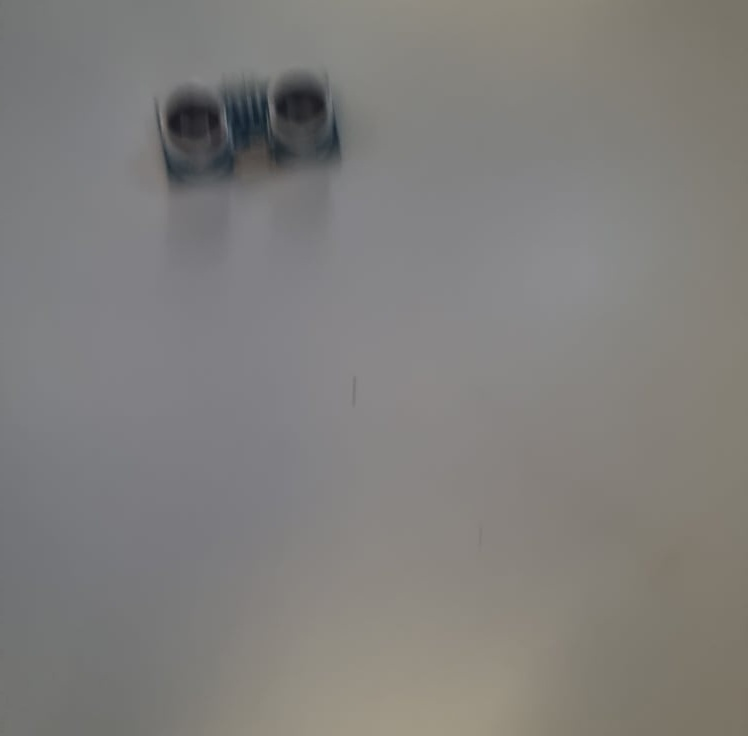SENSOR: (151, 60, 344, 180)
